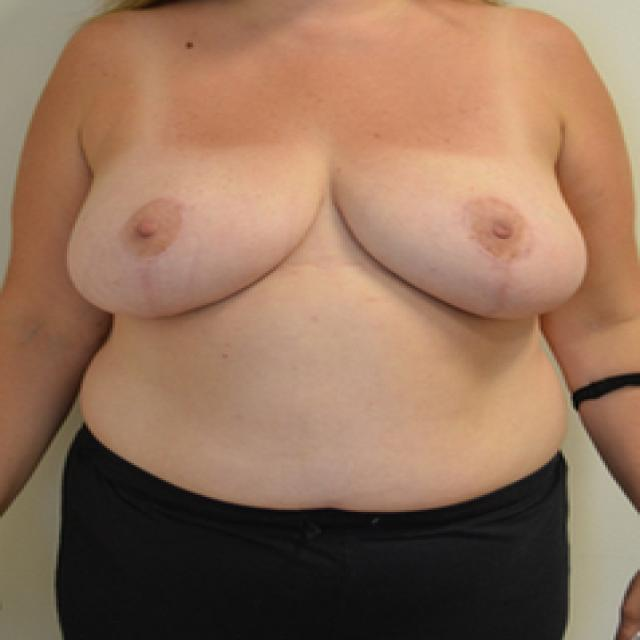Seno herido: (57, 106, 326, 340), (330, 106, 597, 340)
